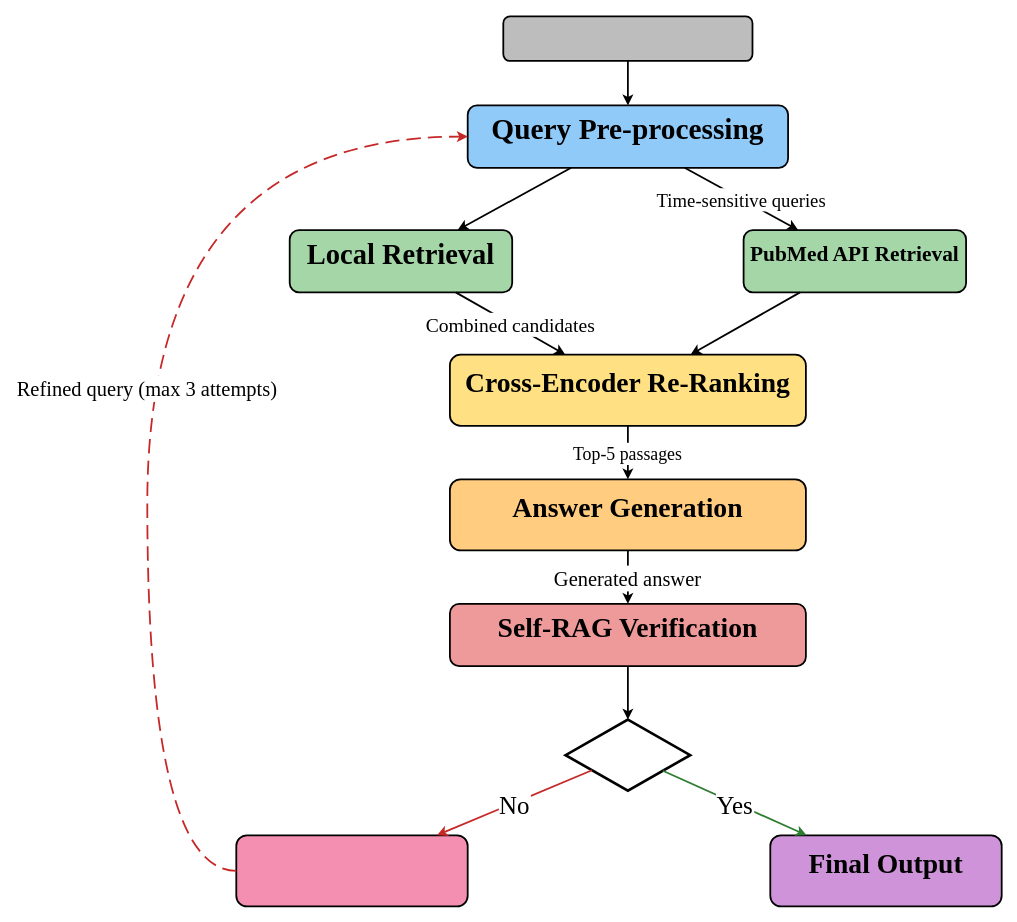
The diagram is 1017 pixels wide and 922 high, and some of its shapes have lost their labels. The shapes that lost their labels are listed below. From the top down, each one's centre as x and y in pixels, then its label:
At (627,38): "User Medical Query".
At (627,755): "Utility Score ≥ 4?".
At (351,870): "Iterative Re-retrieval".
